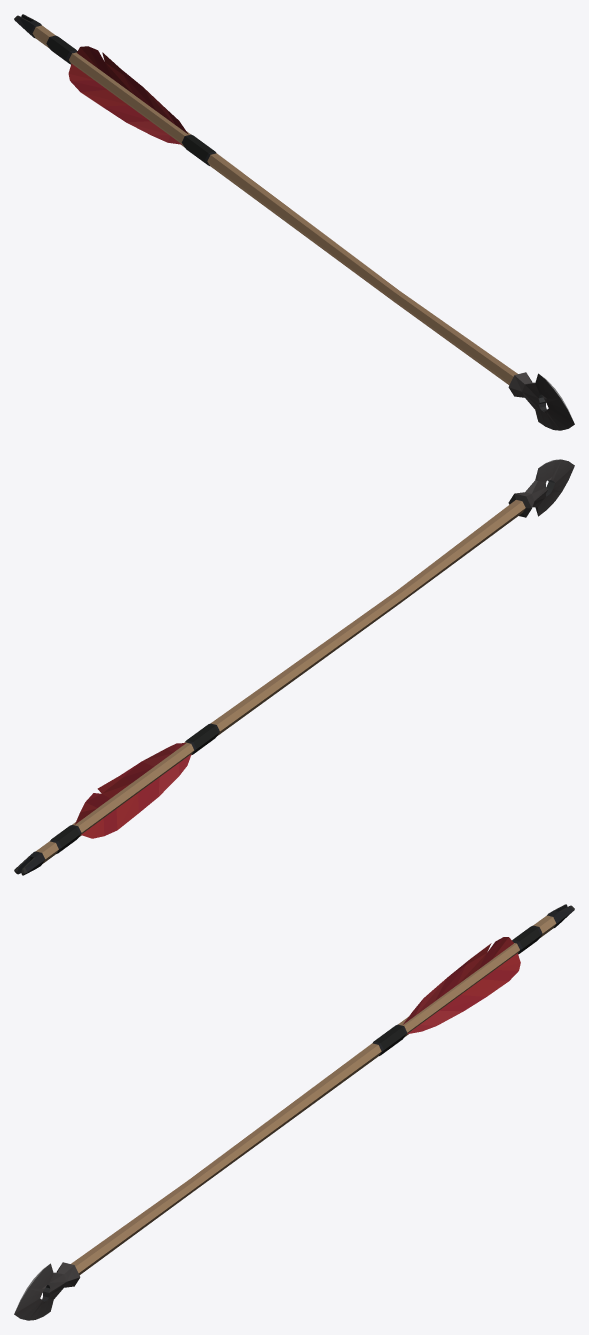
Rendered from yajiriVHeartArrow.glb.
3 renders of one model, top to bottom at view 1: azimuth 30°, elevation 25°; view 2: azimuth 150°, elevation 25°; view 3: azimuth 330°, elevation 25°, orthographic.
Visible parts, largest first — view 1: YanoneVHeartArrow; view 2: YanoneVHeartArrow; view 3: YanoneVHeartArrow.
Boxes of the visible parts, x1,y1,x2,y2 form: YanoneVHeartArrow: (14,14,574,430); YanoneVHeartArrow: (14,459,574,875); YanoneVHeartArrow: (14,904,574,1320).
Bounding box in the file's own units: 0.041 × 0.0503 × 1.05.
